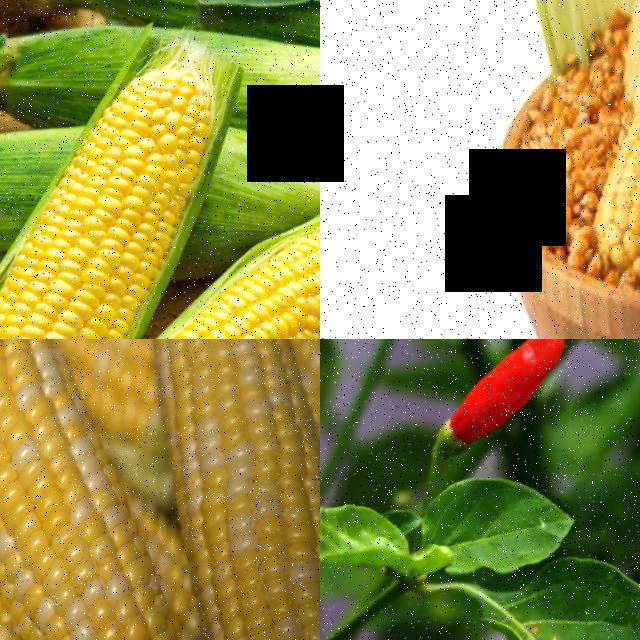chilli: (417, 339, 580, 469)
corn: (106, 339, 320, 640), (4, 339, 211, 640), (40, 64, 236, 323), (0, 426, 128, 640), (0, 339, 111, 579), (576, 8, 640, 280), (0, 227, 149, 339), (231, 219, 320, 339)
